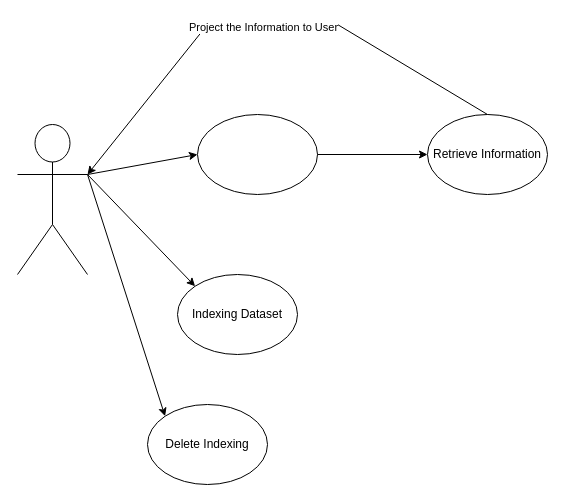
Image size: 565x502. Some labels were removed from this diagram. The shapes that lost their labels are listed below. From the top down, each one's centre as x and y in pixels, then its label:
At (257,154): "Search a query".
At (52,199): "Normal User".
